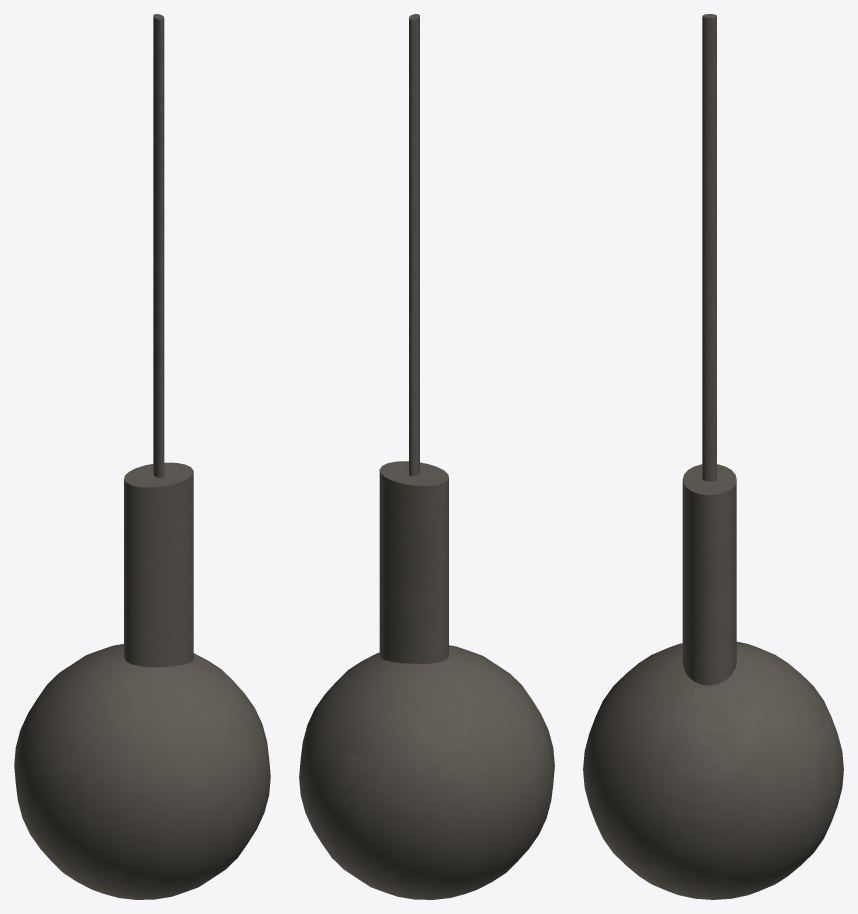
Rendered from lightball.fbx.
3 views of the same model, side by side, from view 1: azimuth 30°, elevation 25°; view 2: azimuth 150°, elevation 25°; view 3: azimuth 270°, elevation 25° (orthographic).
Parts seen in each view (by area): view 1: pSphere1, pCylinder5, pCylinder18; view 2: pSphere1, pCylinder5, pCylinder18; view 3: pSphere1, pCylinder5, pCylinder18.
Boxes of the visible parts, bbox=[...] form: pSphere1: bbox=[14, 644, 270, 899]; pCylinder5: bbox=[124, 462, 193, 667]; pCylinder18: bbox=[153, 14, 164, 477]; pSphere1: bbox=[299, 645, 554, 899]; pCylinder5: bbox=[379, 461, 448, 663]; pCylinder18: bbox=[409, 14, 419, 476]; pSphere1: bbox=[583, 641, 843, 899]; pCylinder5: bbox=[682, 464, 736, 685]; pCylinder18: bbox=[702, 14, 716, 481].
Bounding box in the file's own units: 8.47 × 31.47 × 8.47.
1 material, 1 textured.
